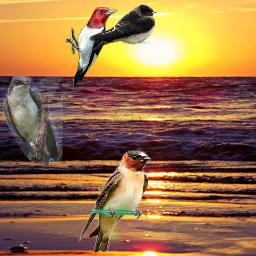Swallow: (79, 150, 151, 253), (3, 76, 63, 167), (89, 4, 157, 51)
Woodpecker: (65, 7, 118, 91)
